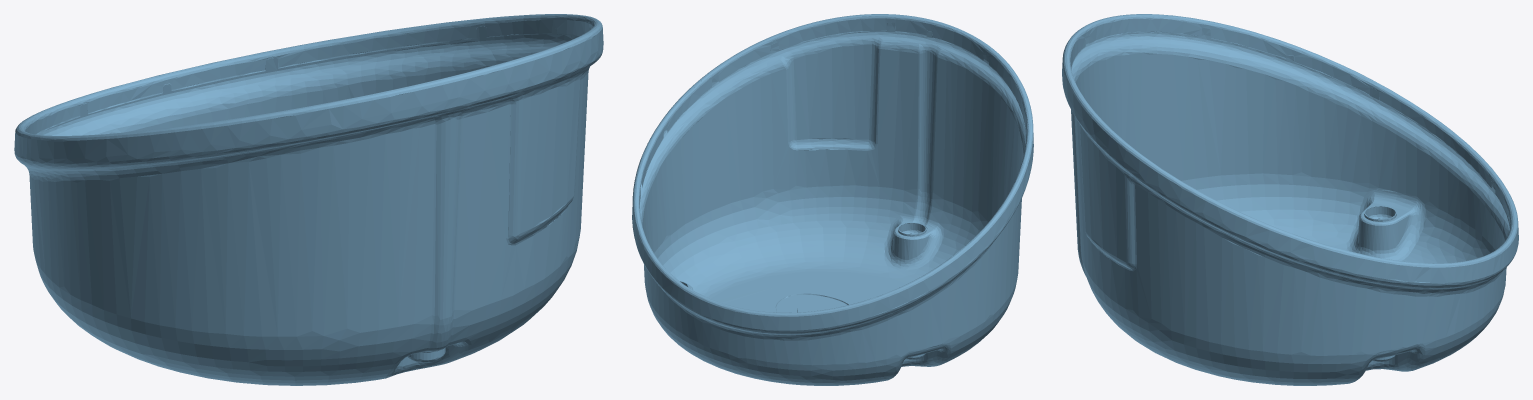
Rendered from wrist2_1.obj.
3 renders of one model, left to right at view 1: azimuth 30°, elevation 25°; view 2: azimuth 150°, elevation 25°; view 3: azimuth 270°, elevation 25°, orthographic. The views are drawn at different scales.
Bounding box in the file's own units: 0.0787 × 0.0492 × 0.0787.
